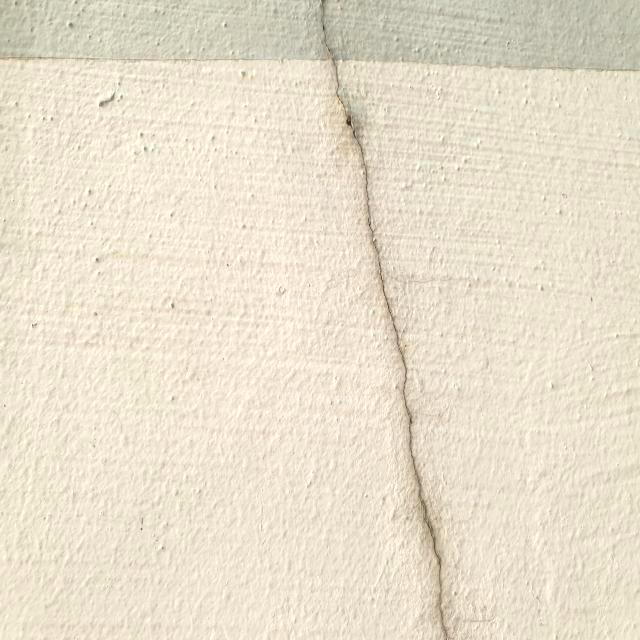SurfaceCrack: (307, 65, 481, 640)
